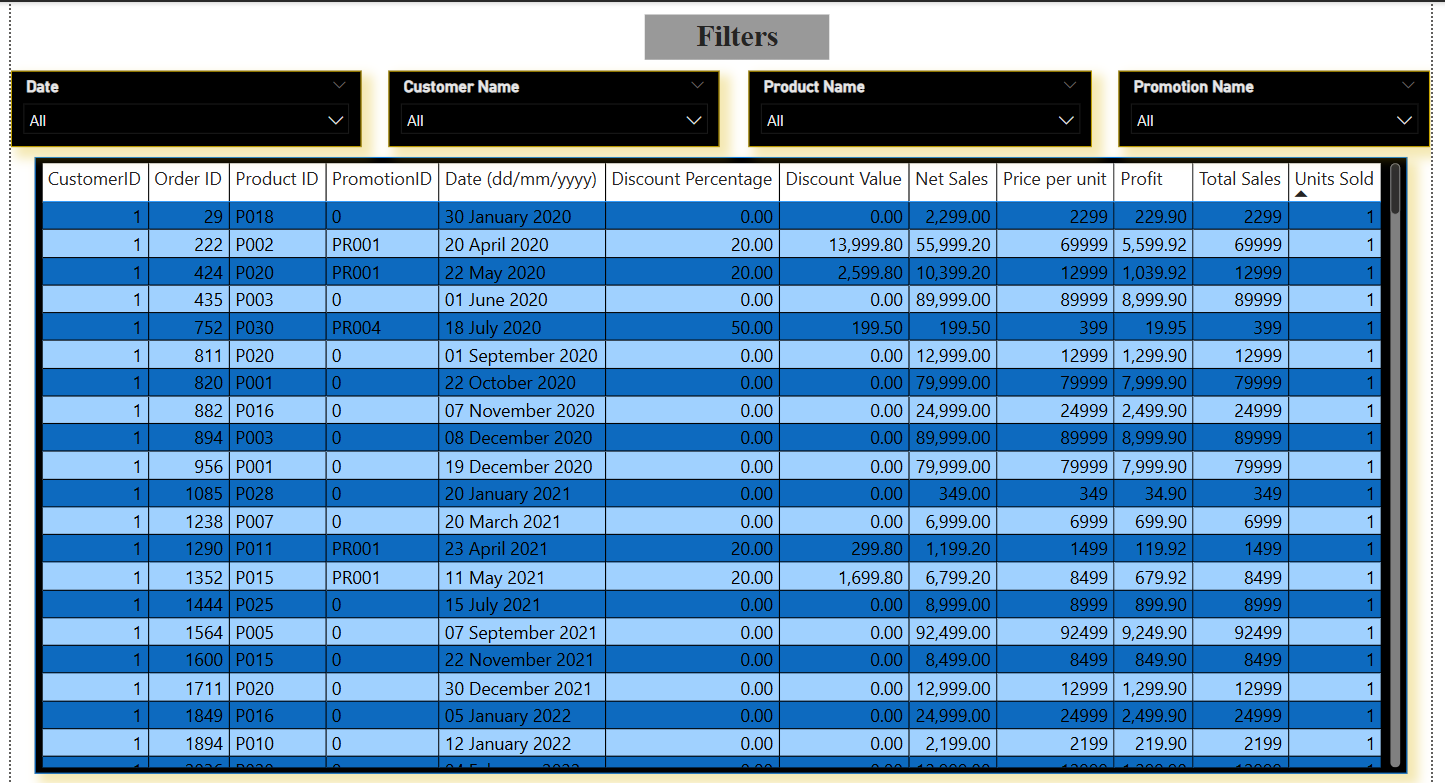

The page's visual inventory and layout, read from the dashboard file:
{"tool":"powerbi","page":{"name":"Filters","canvas":[1280,720],"ordinal":5},"visuals":[{"type":"tableEx","fields":{"Values":["Fact table.CustomerID","Fact table.Order ID","Fact table.Product ID","Fact table.PromotionID","Fact table.Date (dd/mm/yyyy)","Fact table.Discount Percentage","Fact table.Discount Value","Fact table.Net Sales","Fact table.Price per unit","Fact table.Profit","Fact table.Total Sales","Fact table.Units Sold"]},"box":[21.2,140,1237.5,556.2],"z":0},{"type":"slicer","fields":{"Values":["Fact table.Date (dd/mm/yyyy)"]},"box":[0,62.2,316,68.4],"z":1000},{"type":"slicer","fields":{"Values":["Dim Customers.Customer Name"]},"box":[340.8,62.2,298.6,68.4],"z":2000},{"type":"slicer","fields":{"Values":["Dim Product.Product Name"]},"box":[665.5,62.2,309.7,68.4],"z":3000},{"type":"slicer","fields":{"Values":["Dim Promotion.Promotion Name"]},"box":[998.9,62.2,281.1,68.4],"z":4000},{"type":"textbox","box":[571,11.2,166.7,41.1],"z":4001}]}

Visuals, with their boxes on the page's 1280x720 design canvas (x1, y1, x2, y2). These are canvas units, not pixel positions in the 1445x783 screenshot, which may show the page scaled, cropped or inside an application window:
tableEx - Fact table.CustomerID x Fact table.Order ID: {"left": 21, "top": 140, "right": 1259, "bottom": 696}
slicer - Fact table.Date (dd/mm/yyyy): {"left": 0, "top": 62, "right": 316, "bottom": 131}
slicer - Dim Customers.Customer Name: {"left": 341, "top": 62, "right": 639, "bottom": 131}
slicer - Dim Product.Product Name: {"left": 666, "top": 62, "right": 975, "bottom": 131}
slicer - Dim Promotion.Promotion Name: {"left": 999, "top": 62, "right": 1280, "bottom": 131}
textbox: {"left": 571, "top": 11, "right": 738, "bottom": 52}
